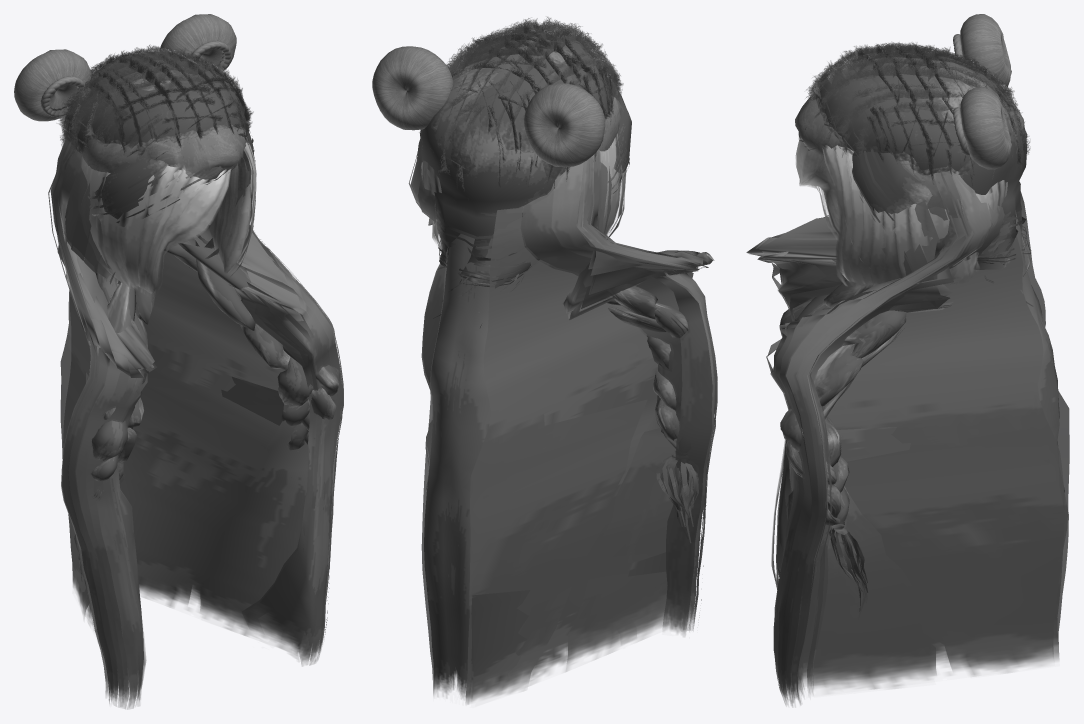
The model's file is male-hair.glb.
3 renders of one model, left to right at view 1: azimuth 30°, elevation 25°; view 2: azimuth 150°, elevation 25°; view 3: azimuth 270°, elevation 25°, orthographic. The views are drawn at different scales.
Visible parts, largest first — view 1: male-long, male-braids, male-curls, male-waves, male-buns, male-short; view 2: male-long, male-braids, male-curls, male-buns, male-waves, male-short; view 3: male-long, male-braids, male-curls, male-waves, male-buns, male-short.
Boxes of the visible parts, <box> form: male-long: <box>48,135,343,709</box>; male-braids: <box>74,51,340,599</box>; male-curls: <box>56,45,253,161</box>; male-waves: <box>80,137,256,296</box>; male-buns: <box>14,14,236,121</box>; male-short: <box>82,73,246,175</box>; male-long: <box>408,139,717,704</box>; male-braids: <box>420,32,698,543</box>; male-curls: <box>419,17,623,190</box>; male-buns: <box>372,46,605,167</box>; male-waves: <box>421,133,626,267</box>; male-short: <box>537,42,621,153</box>; male-long: <box>746,146,1069,706</box>; male-braids: <box>779,54,1036,619</box>; male-curls: <box>805,42,1030,185</box>; male-waves: <box>795,137,1007,288</box>; male-buns: <box>953,14,1011,169</box>; male-short: <box>795,53,913,155</box>.
Bounding box in the file's own units: 0.4178 × 0.8418 × 0.4036.
Materials: 7 (7 with a texture image).
